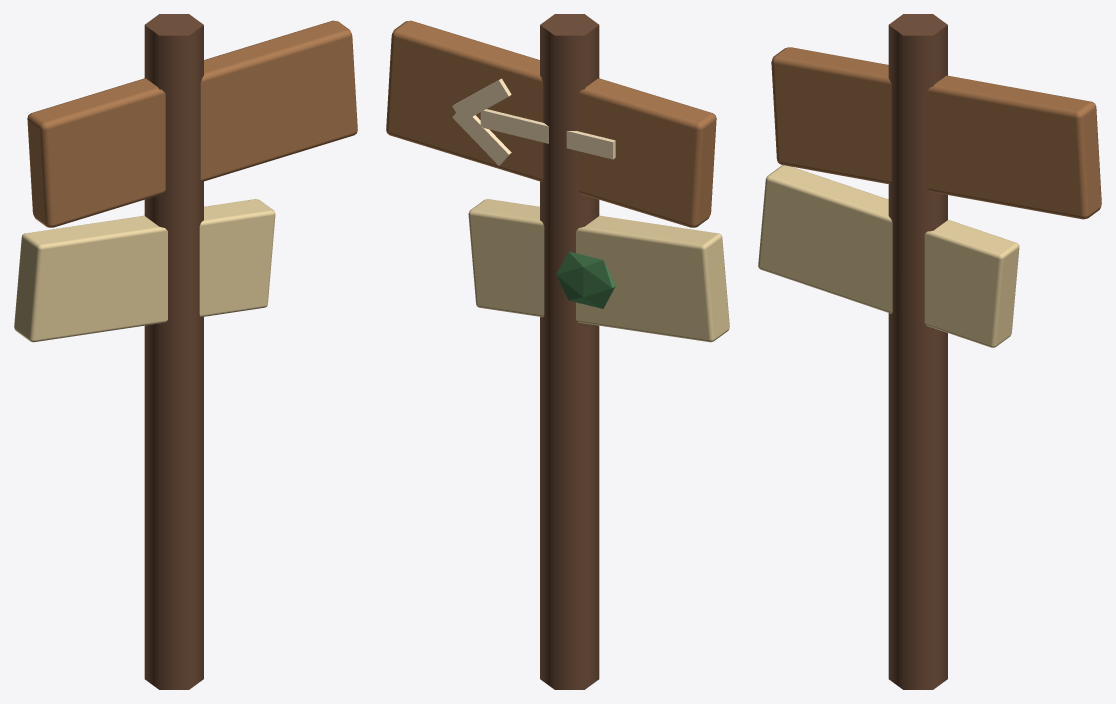
File: trail-sign.glb
The picture shows the model from 3 angles, left to right: view 1: azimuth 30°, elevation 25°; view 2: azimuth 150°, elevation 25°; view 3: azimuth 330°, elevation 25°; orthographic projection.
Parts seen in each view (by area): view 1: upper-sign, post, lower-sign; view 2: post, upper-sign, lower-sign, arrow-shaft, trail-mark, arrow-1, arrow-0; view 3: post, upper-sign, lower-sign.
Part boxes in pixels (box(x1,y1,x2,y2)): upper-sign: box(27, 20, 357, 227); post: box(144, 14, 203, 689); lower-sign: box(14, 199, 275, 342); post: box(540, 14, 599, 689); upper-sign: box(386, 20, 716, 227); lower-sign: box(468, 199, 729, 342); arrow-shaft: box(480, 109, 615, 159); trail-mark: box(556, 251, 615, 308); arrow-1: box(452, 106, 511, 165); arrow-0: box(452, 78, 511, 121); post: box(888, 14, 947, 689); upper-sign: box(771, 47, 1101, 219); lower-sign: box(758, 165, 1019, 347).
Bounding box in the file's own units: 0.8958 × 1.7 × 0.1448.
